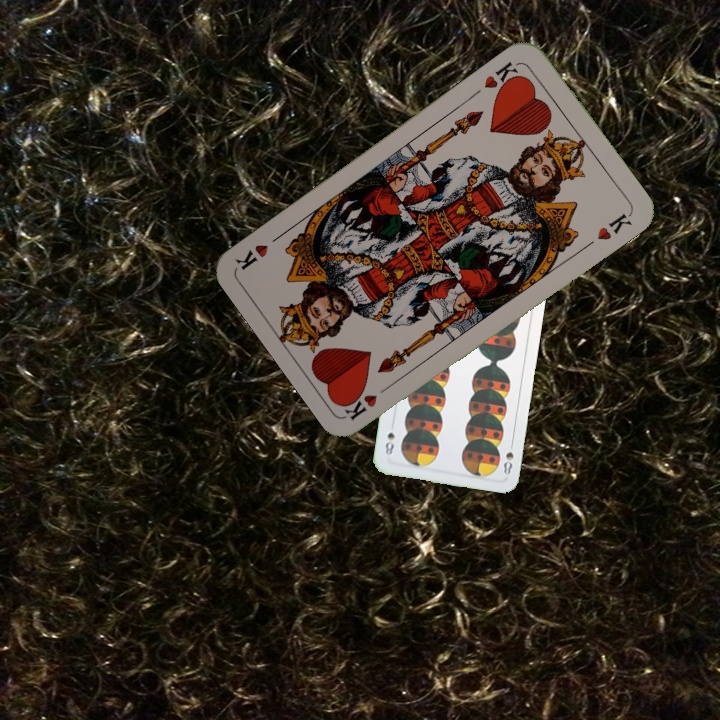HK: (341, 379, 396, 423), (480, 57, 524, 97)
S8: (499, 437, 516, 477)
